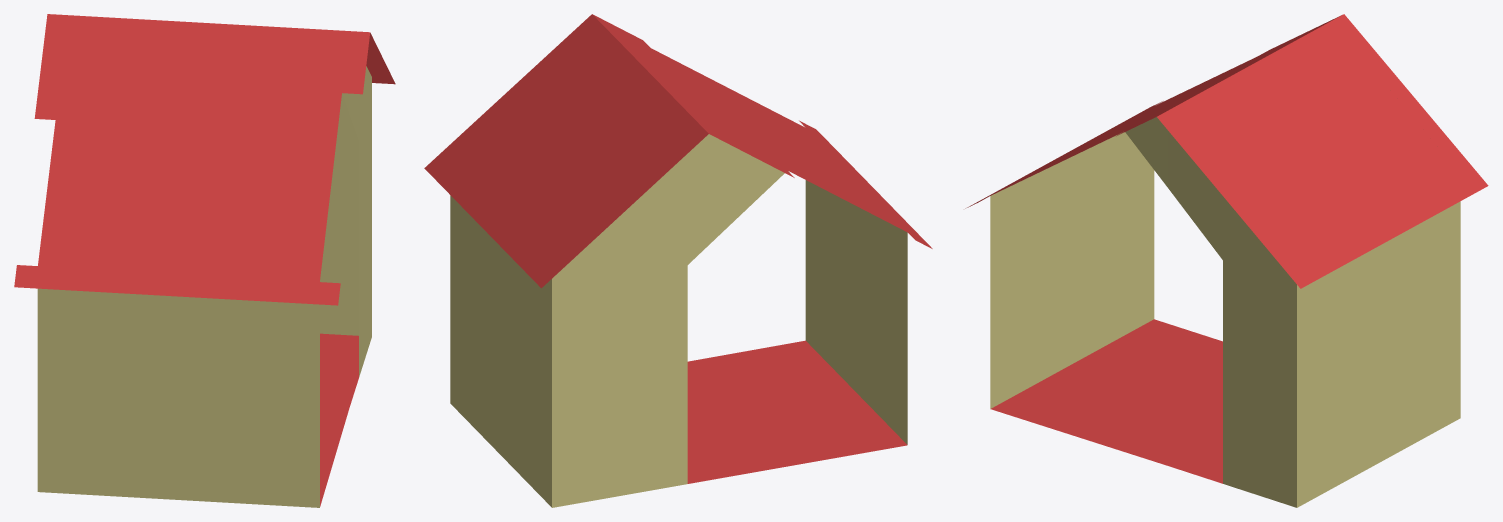
3 views of the same model, side by side, from view 1: azimuth 30°, elevation 25°; view 2: azimuth 150°, elevation 25°; view 3: azimuth 270°, elevation 25° (orthographic). The views are drawn at different scales.
Bounding box in the file's own units: 18.95 × 19.86 × 14.82.
